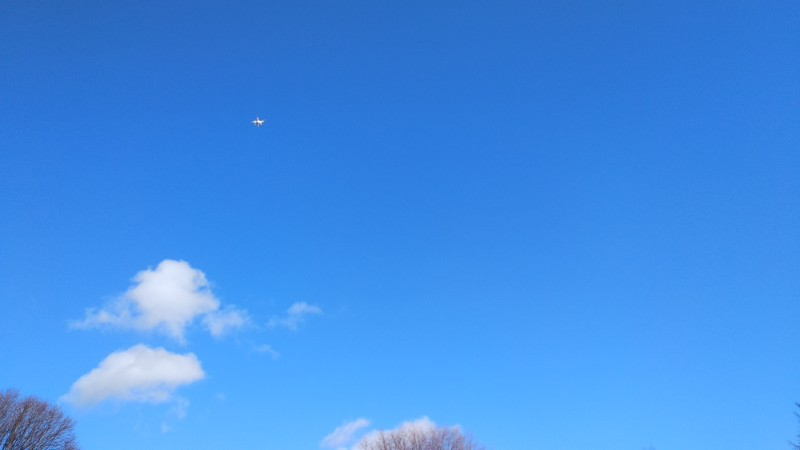drone: (250, 115, 266, 127)
